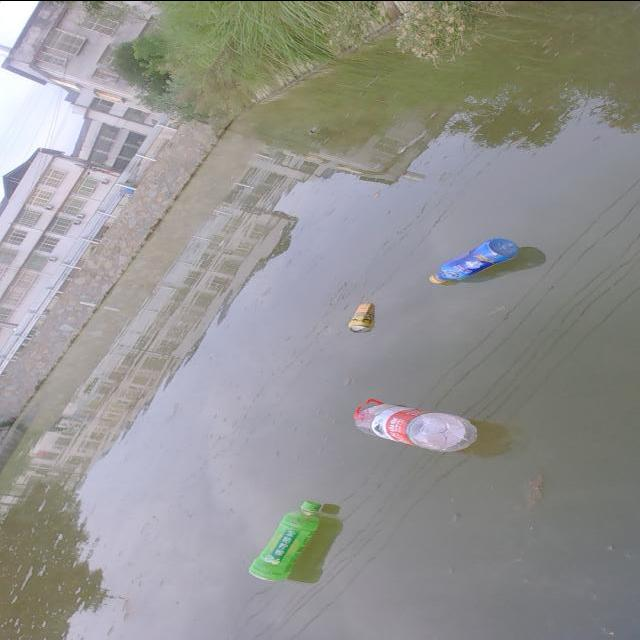Bottle: (351, 395, 483, 457), (244, 498, 332, 588), (424, 226, 526, 292)
Can: (345, 298, 383, 336)
